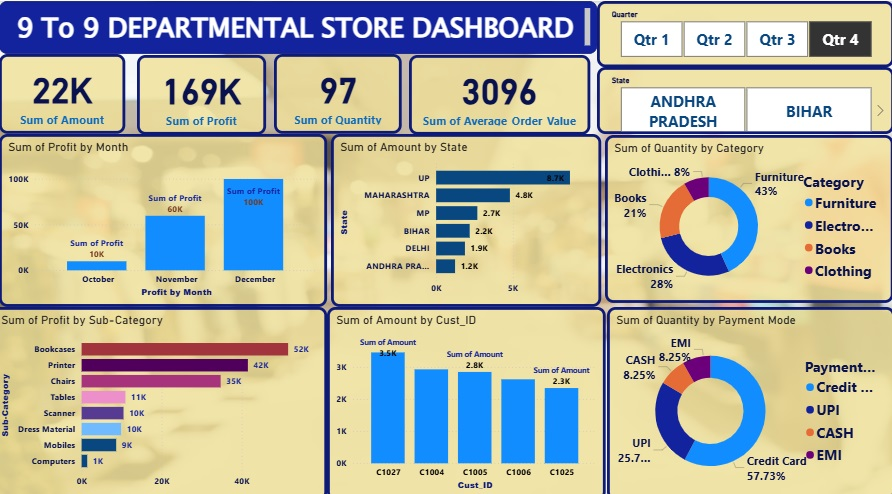

What the dashboard file says about the page in this screenshot:
{"tool":"powerbi","page":{"name":"Page 1","canvas":[1280,720],"ordinal":0},"visuals":[{"type":"textbox","box":[9.9,0,847.6,75.1],"z":0},{"type":"columnChart","fields":{"Category":["Customer_Order.Order Date.Variation.Date Hierarchy.Month"],"Y":["Sum(Order.Profit)"]},"box":[9.9,188.5,464.9,245.2],"z":1000},{"type":"barChart","fields":{"Category":["Order.Sub-Category"],"Y":["Sum(Order.Profit)"]},"box":[0,433.7,474.8,273.5],"z":2000},{"type":"donutChart","fields":{"Category":["Order.Category"],"Y":["Sum(Order.Quantity)"]},"box":[869.2,190.6,409.1,238.3],"z":3000},{"type":"donutChart","fields":{"Category":["Order.Payment Mode"],"Y":["Sum(Order.Quantity)"]},"box":[871.7,433.7,408.2,273.5],"z":4000},{"type":"card","fields":{"Values":["Sum(Order.Amount)"]},"box":[9.9,75.6,179.1,113.4],"z":5000},{"type":"card","fields":{"Values":["Sum(Order.Profit)"]},"box":[205.5,76.5,182.8,113.4],"z":6000},{"type":"card","fields":{"Values":["Sum(Order.Quantity)"]},"box":[399.7,75.1,181.4,113.4],"z":7000},{"type":"card","fields":{"Values":["Sum(Order.Average_Order_Value)"]},"box":[591,76.5,256.5,113.4],"z":8000},{"type":"barChart","fields":{"Y":["Sum(Order.Amount)"],"Category":["Customer_Order.State"]},"box":[479.8,189,382.8,244.8],"z":9000},{"type":"columnChart","fields":{"Category":["Customer_Order.Cust_ID"],"Y":["Sum(Order.Amount)"]},"box":[474.8,433.7,395.4,273.5],"z":10000},{"type":"slicer","fields":{"Values":["Customer_Order.Order Date.Variation.Date Hierarchy.Quarter"]},"box":[857.7,0,420.6,93.7],"z":11000},{"type":"slicer","fields":{"Values":["Customer_Order.State"]},"box":[857.5,93.5,420.9,95],"z":12000}]}

Visuals, with their boxes in screenshot pixels (x1, y1, x2, y2), scaled from the page's 1280x720 canvas onto the 892x494 screenshot:
textbox: 7, 0, 598, 52
columnChart - Customer_Order.Order Date.Variation.Date Hierarchy.Month x Sum(Order.Profit): 7, 129, 331, 298
barChart - Order.Sub-Category x Sum(Order.Profit): 0, 298, 331, 485
donutChart - Order.Category x Sum(Order.Quantity): 606, 131, 891, 294
donutChart - Order.Payment Mode x Sum(Order.Quantity): 607, 298, 891, 485
card - Sum(Order.Amount): 7, 52, 132, 130
card - Sum(Order.Profit): 143, 52, 271, 130
card - Sum(Order.Quantity): 279, 52, 405, 129
card - Sum(Order.Average_Order_Value): 412, 52, 591, 130
barChart - Sum(Order.Amount) x Customer_Order.State: 334, 130, 601, 298
columnChart - Customer_Order.Cust_ID x Sum(Order.Amount): 331, 298, 606, 485
slicer - Customer_Order.Order Date.Variation.Date Hierarchy.Quarter: 598, 0, 891, 64
slicer - Customer_Order.State: 598, 64, 891, 129
